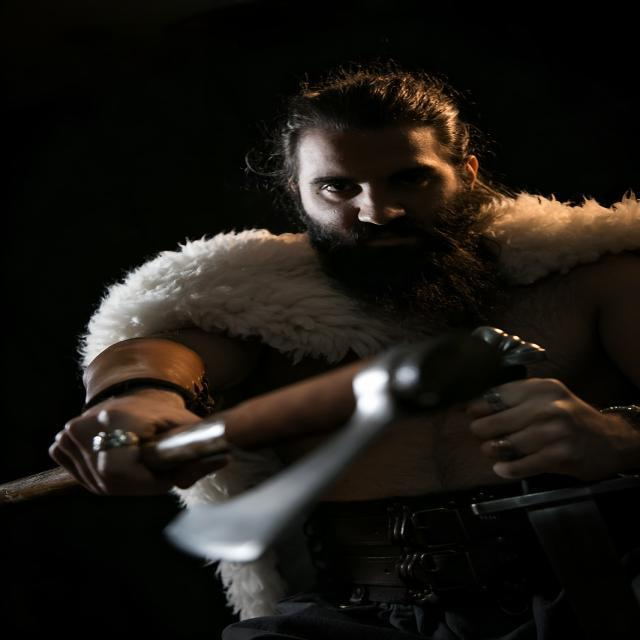Axe: (140, 328, 542, 562), (0, 469, 78, 502)
